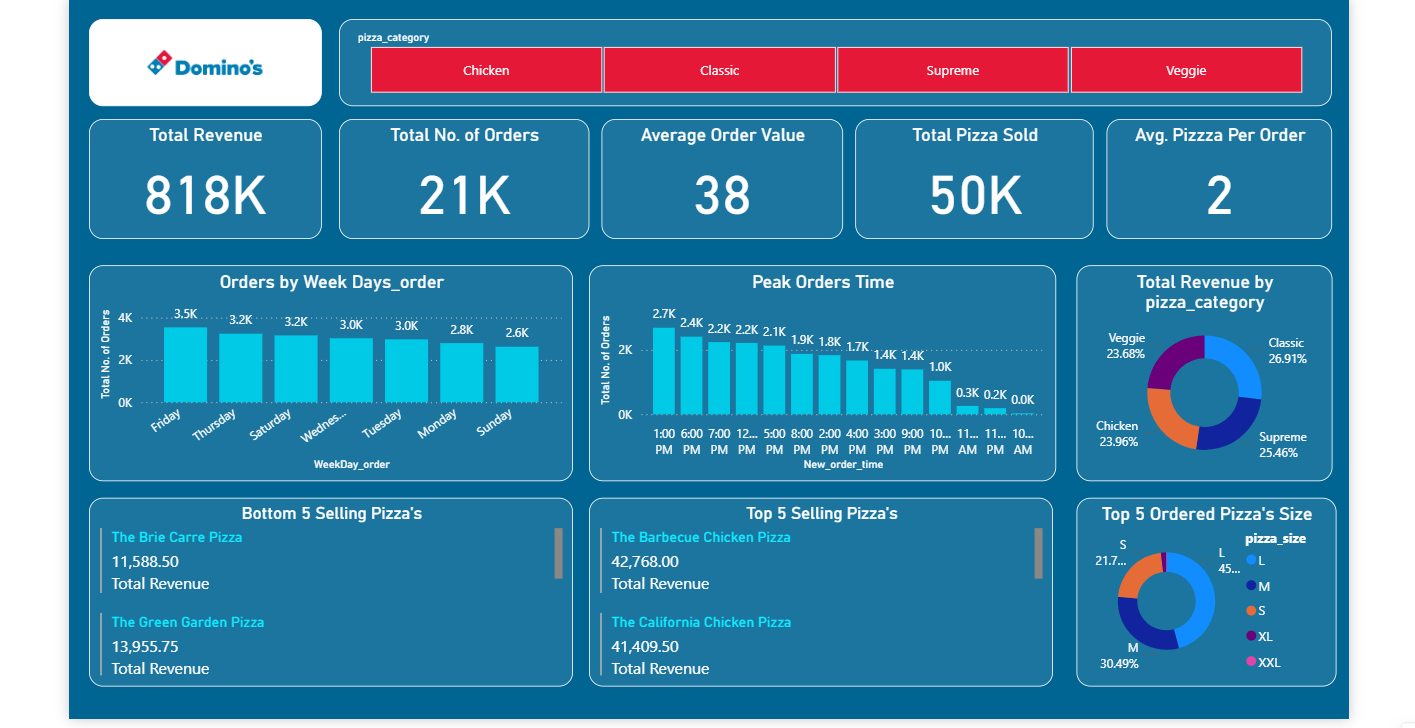

The page's visual inventory and layout, read from the dashboard file:
{"tool":"powerbi","page":{"name":"Page 1","canvas":[1280,720],"ordinal":0},"visuals":[{"type":"card","title":"Total Revenue","fields":{"Values":["Pizza Measure.Total Revenue"]},"box":[20,120,232.9,120],"z":0},{"type":"card","title":"Total No. of  Orders","fields":{"Values":["Pizza Measure.Total No. of Orders"]},"box":[270,120,250,120],"z":1000},{"type":"card","title":"Average Order Value","fields":{"Values":["Pizza Measure.Average Order Value"]},"box":[532.9,120,241.4,120],"z":2000},{"type":"card","title":"Total Pizza Sold","fields":{"Values":["Pizza Measure.Total Pizza Sold"]},"box":[785.7,120,238.6,120],"z":3000},{"type":"card","title":"Avg. Pizzza Per Order","fields":{"Values":["Pizza Measure.Avg. Pizza Per Order"]},"box":[1037.1,120,225.7,120],"z":4000},{"type":"columnChart","title":"Orders by Week Days_order","fields":{"Category":["Domino's.WeekDay_order"],"Y":["Pizza Measure.Total No. of Orders"]},"box":[20,265.7,484.3,215.7],"z":5000},{"type":"columnChart","title":"Peak Orders Time","fields":{"Category":["Domino's.New_order_time"],"Y":["Pizza Measure.Total No. of Orders"]},"box":[520,265.7,467.1,215.7],"z":6000},{"type":"donutChart","fields":{"Category":["Domino's.pizza_category"],"Y":["Pizza Measure.Total Revenue"]},"box":[1007.1,265.7,255.7,215.7],"z":7000},{"type":"multiRowCard","title":"Bottom 5 Selling Pizza''s","fields":{"Values":["Domino's.pizza_name","Pizza Measure.Total Revenue"]},"box":[20,498.6,484.3,188.6],"z":8000},{"type":"multiRowCard","title":"Top 5 Selling Pizza''s","fields":{"Values":["Domino's.pizza_name","Pizza Measure.Total Revenue"]},"box":[520,498.6,464.3,188.6],"z":9000},{"type":"donutChart","title":"Top 5 Ordered Pizza''s Size","fields":{"Y":["Pizza Measure.Total Revenue"],"Category":["Domino's.pizza_size"]},"box":[1007.1,498.6,260,188.6],"z":10000},{"type":"slicer","fields":{"Values":["Domino's.pizza_category"]},"box":[270,20,992.9,87.1],"z":11000},{"type":"image","box":[20,20,232.9,87.1],"z":11001}]}

Visuals, with their boxes in screenshot pixels (x1, y1, x2, y2):
"Total Revenue" card: <region>61, 117, 303, 241</region>
"Total No. of  Orders" card: <region>320, 117, 579, 241</region>
"Average Order Value" card: <region>593, 117, 843, 241</region>
"Total Pizza Sold" card: <region>855, 117, 1102, 241</region>
"Avg. Pizzza Per Order" card: <region>1115, 117, 1349, 241</region>
"Orders by Week Days_order" columnChart: <region>61, 268, 563, 491</region>
"Peak Orders Time" columnChart: <region>579, 268, 1063, 491</region>
donutChart - Domino's.pizza_category x Pizza Measure.Total Revenue: <region>1084, 268, 1349, 491</region>
"Bottom 5 Selling Pizza''s" multiRowCard: <region>61, 509, 563, 705</region>
"Top 5 Selling Pizza''s" multiRowCard: <region>579, 509, 1060, 705</region>
"Top 5 Ordered Pizza''s Size" donutChart: <region>1084, 509, 1353, 705</region>
slicer - Domino's.pizza_category: <region>320, 13, 1349, 104</region>
image: <region>61, 13, 303, 104</region>
